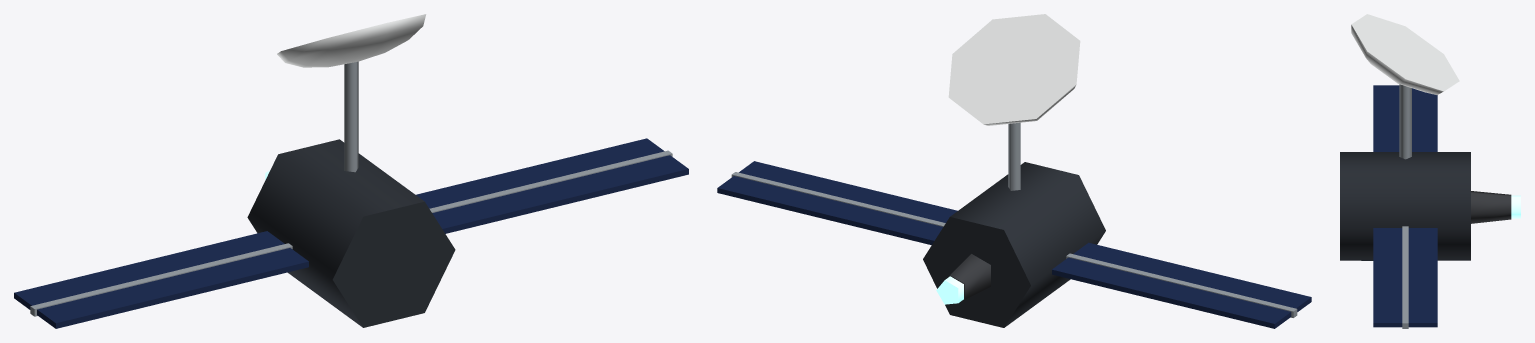
The model's file is space_ship_probe_mk4_lod1.glb.
3 renders of one model, left to right at view 1: azimuth 30°, elevation 25°; view 2: azimuth 150°, elevation 25°; view 3: azimuth 270°, elevation 25°, orthographic. The views are drawn at different scales.
Parts seen in each view (by area): view 1: body, solar_0, solar_1, antenna_0; view 2: body, antenna_0, solar_0, solar_1, engine_0; view 3: body, solar_1, antenna_0, solar_0, engine_0.
Part boxes in pixels (x1,y1,x2,y2): body: [247, 139, 455, 327]; solar_0: [14, 231, 308, 328]; solar_1: [416, 138, 688, 233]; antenna_0: [277, 14, 426, 172]; body: [923, 162, 1105, 327]; antenna_0: [948, 14, 1080, 190]; solar_0: [1052, 242, 1311, 328]; solar_1: [717, 161, 957, 245]; engine_0: [936, 254, 990, 304]; body: [1340, 152, 1470, 260]; solar_1: [1373, 226, 1437, 328]; antenna_0: [1351, 14, 1459, 159]; solar_0: [1373, 85, 1437, 151]; engine_0: [1471, 191, 1520, 223].
Size of the model in its own units: 7.06 by 3.18 by 2.25.
